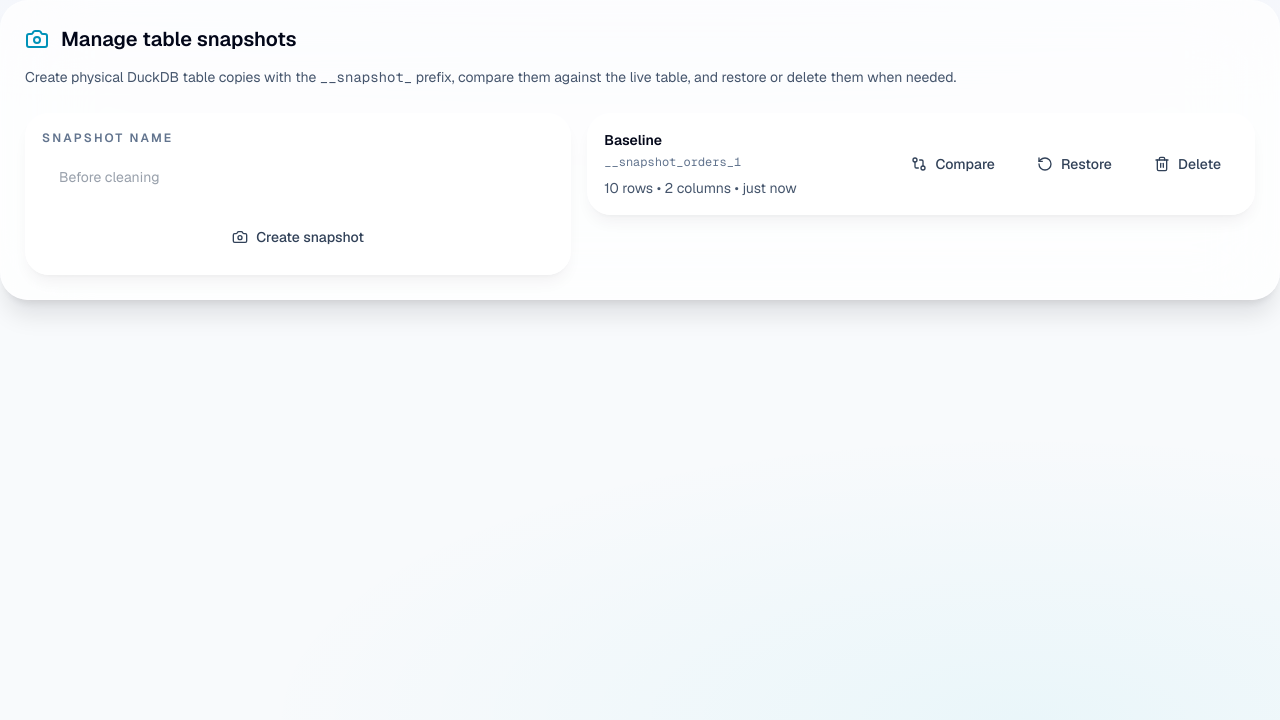
DataSnapshotManager › compares a stored snapshot against the current table
The width and height of the screenshot is (1280, 720).
Click the button "Compare". click: (953, 164)
box: [894,143,1012,185]
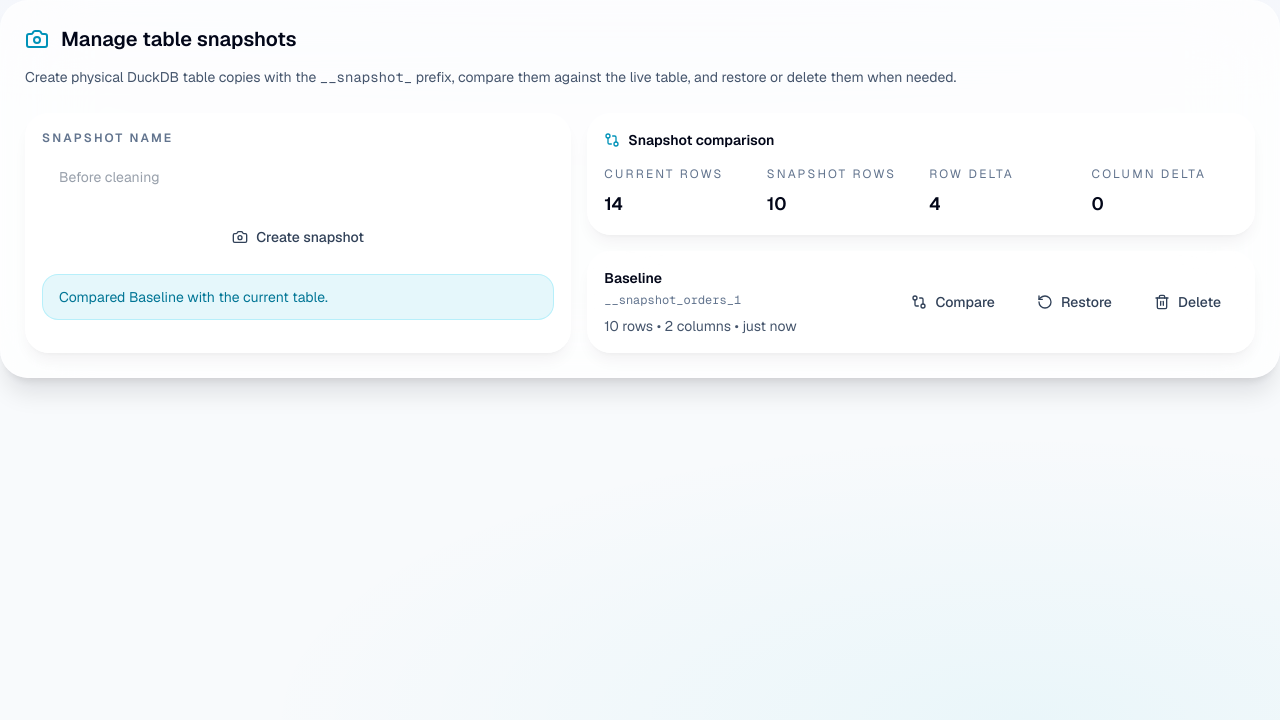
Result: the text "Snapshot comparison" is shown at [604,131,774,149]
Result: the text "4" is shown at [929,192,941,215]
